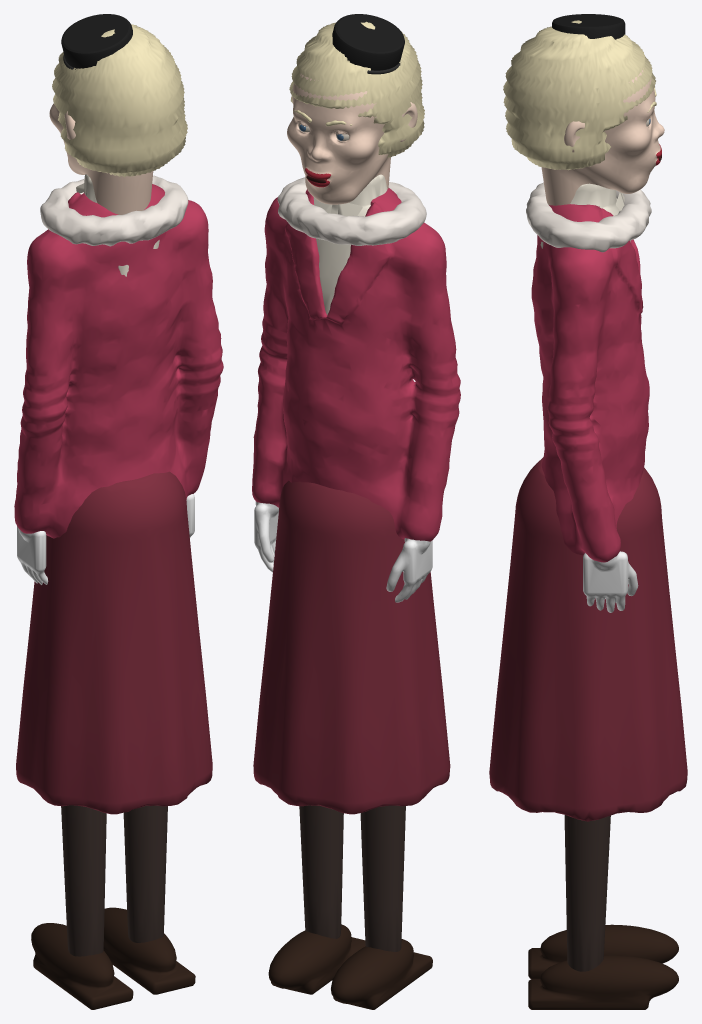
Rendered from edie.fbx.
3 renders of one model, left to right at view 1: azimuth 30°, elevation 25°; view 2: azimuth 150°, elevation 25°; view 3: azimuth 270°, elevation 25°, orthographic.
Parts seen in each view (by area): view 1: Body, Head, Hat, HandR; view 2: Body, Head, Hat, HandR, HandL; view 3: Body, Head, HandL, Hat.
Boxes of the visible parts, x1,y1,x2,y2 form: Body: [14, 174, 223, 1009]; Head: [49, 24, 187, 214]; Hat: [61, 14, 132, 69]; HandR: [17, 526, 48, 584]; Body: [252, 174, 460, 1009]; Head: [287, 21, 424, 204]; Hat: [332, 14, 404, 74]; HandR: [386, 538, 432, 602]; HandL: [254, 501, 278, 572]; Body: [489, 182, 687, 1009]; Head: [503, 20, 664, 205]; HandL: [583, 551, 638, 612]; Hat: [552, 14, 625, 39].
Size of the model in its own units: 0.3767 by 1.76 by 0.3285.
